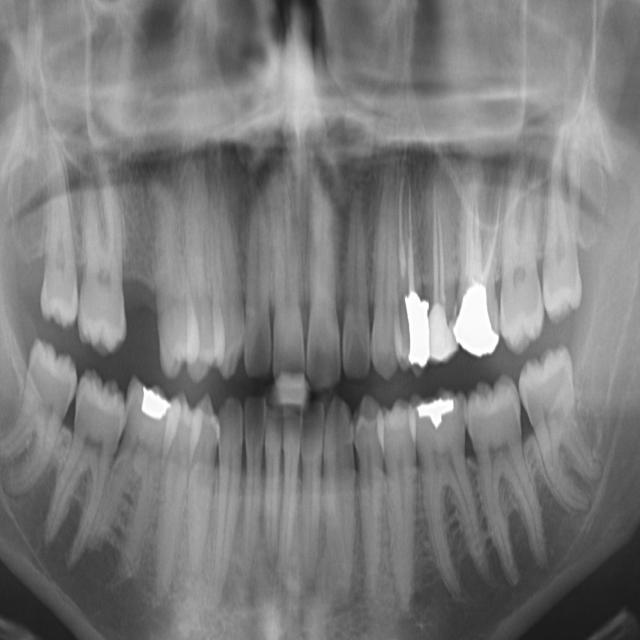infected-teeth: (452, 158, 509, 360), (391, 155, 430, 377), (424, 159, 459, 364)
